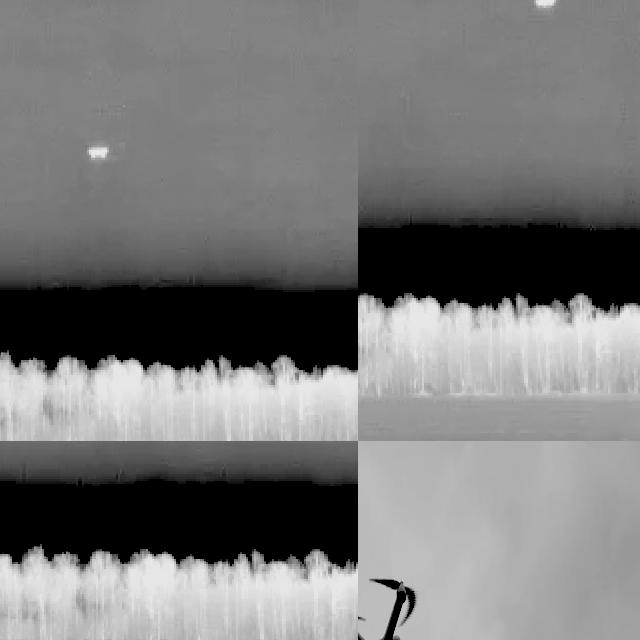1: (74, 139, 118, 171), (522, 0, 558, 18)
drone: (358, 570, 433, 640)
